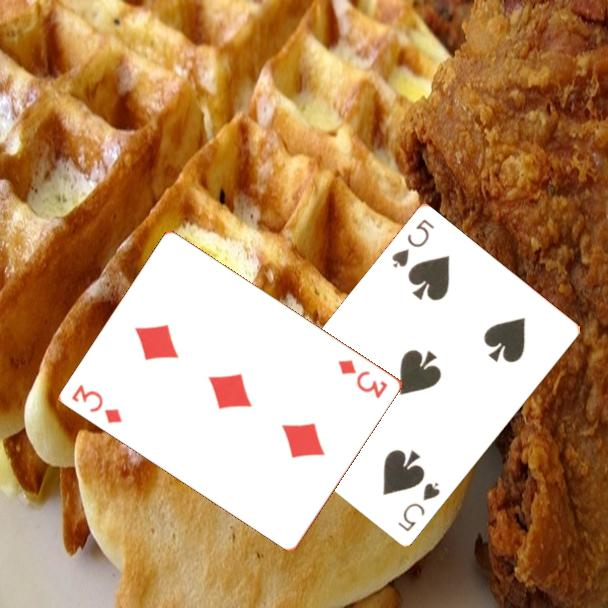d03: (68, 381, 126, 426), (335, 356, 391, 402)
s05: (388, 215, 437, 272), (394, 479, 443, 535)
